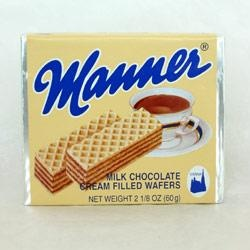grozi_69: (19, 32, 223, 206)
